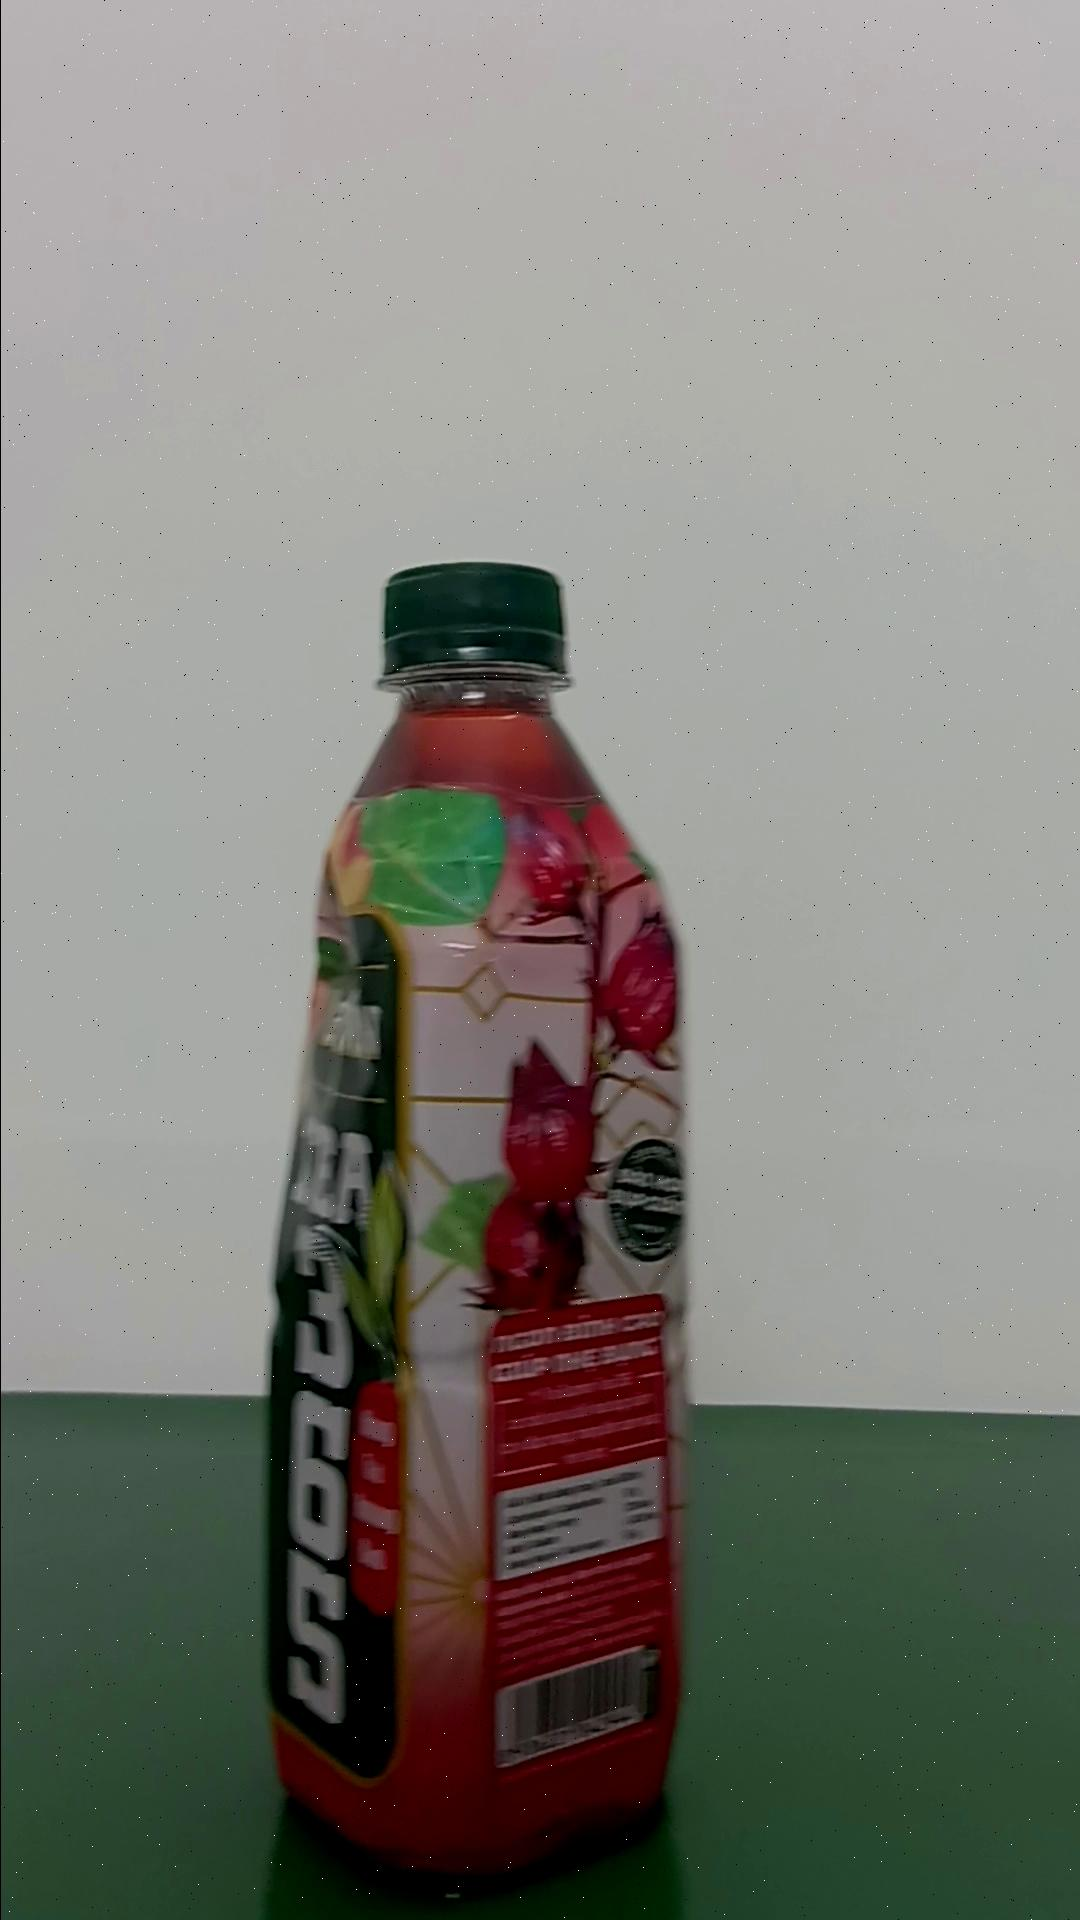loi meo sp: (261, 556, 691, 1879)
